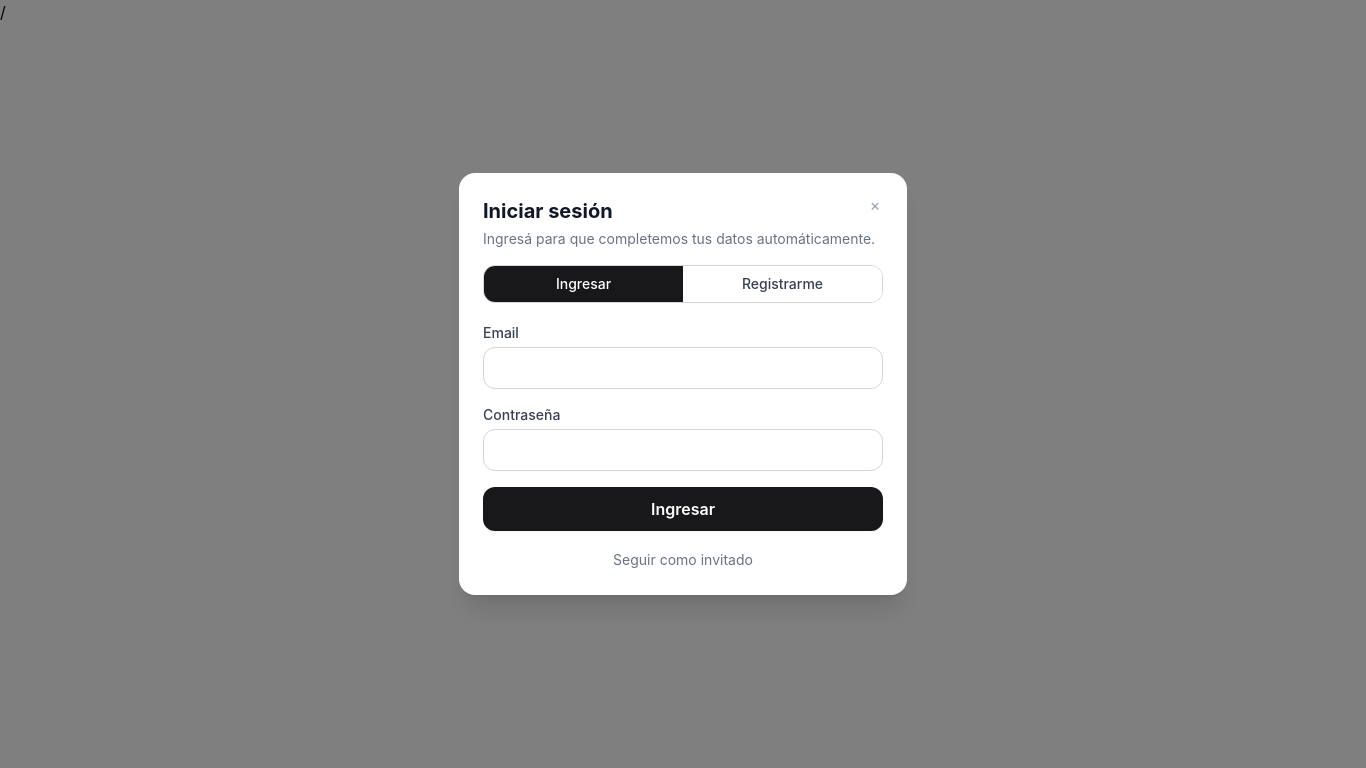
Test case: CustomerAuthModal › cambiar de pestaña limpia los errores
Click the button "Ingresar" below "Contraseña" at (683, 509), box [483,487,883,531]
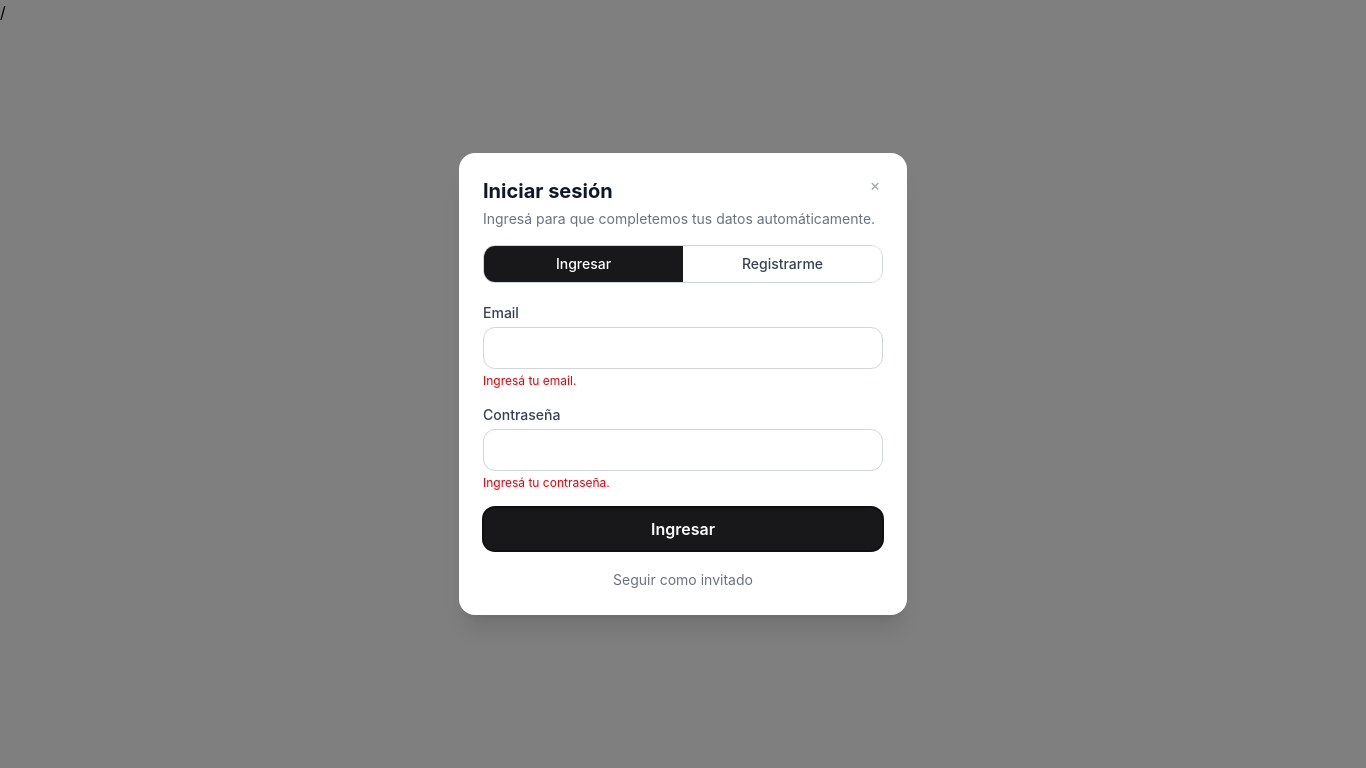
Now the text "Ingresá tu email." is shown, box [483,373,576,388]
Click the button "Registrarme" at (782, 264), box [683,246,882,282]
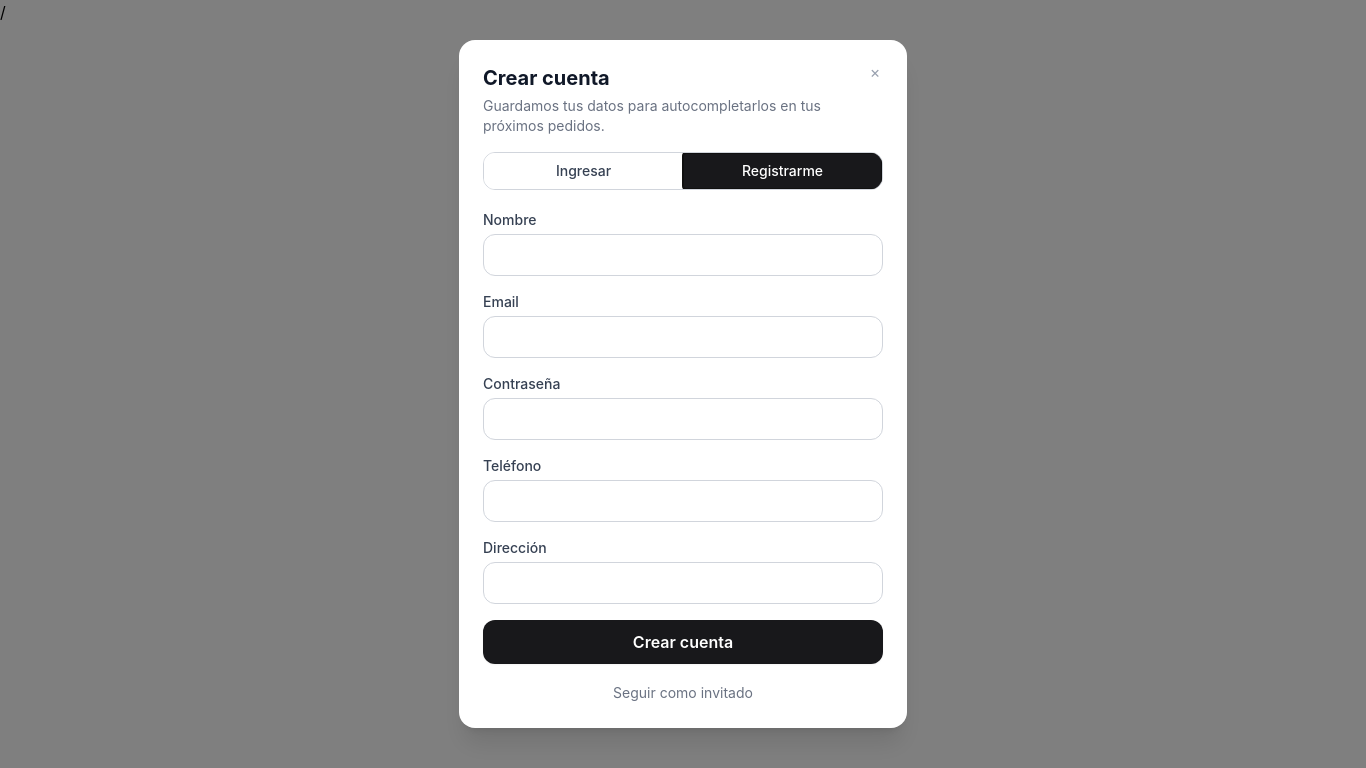
Now the dialog "Crear cuenta" is shown, box [459,40,907,728]
Now the text "Ingresá tu email." is gone
